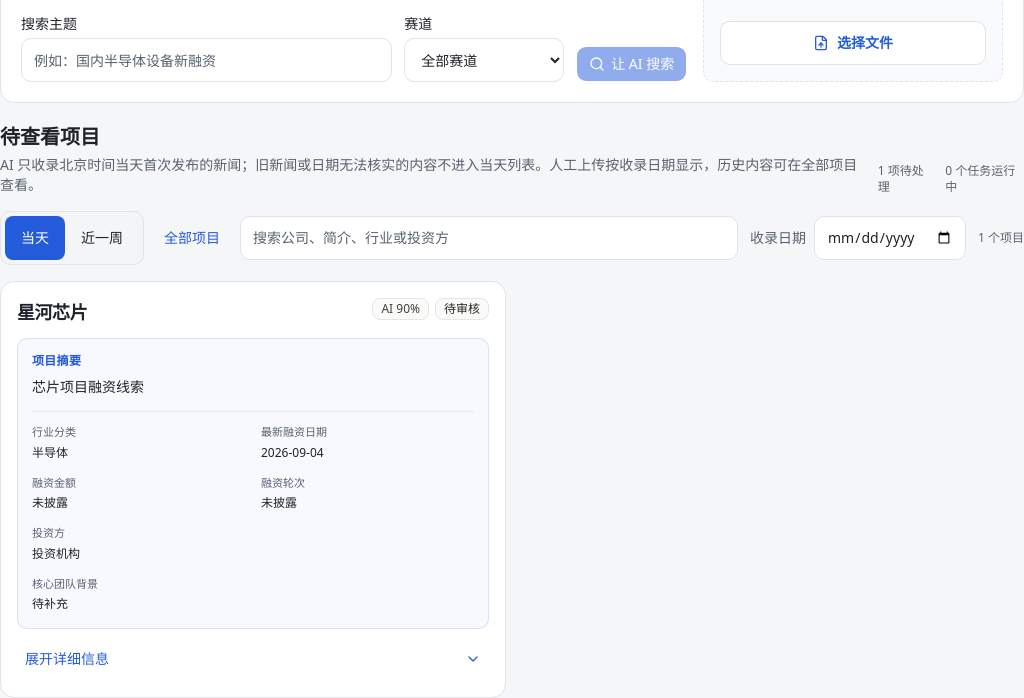
Test: searches intake assignees by real department metadata
The width and height of the screenshot is (1024, 698).
(page scrolled)
Click the button with aria-label "查看项目详情" at x=67, y=658, box [17,637,489,681]
(page scrolled)
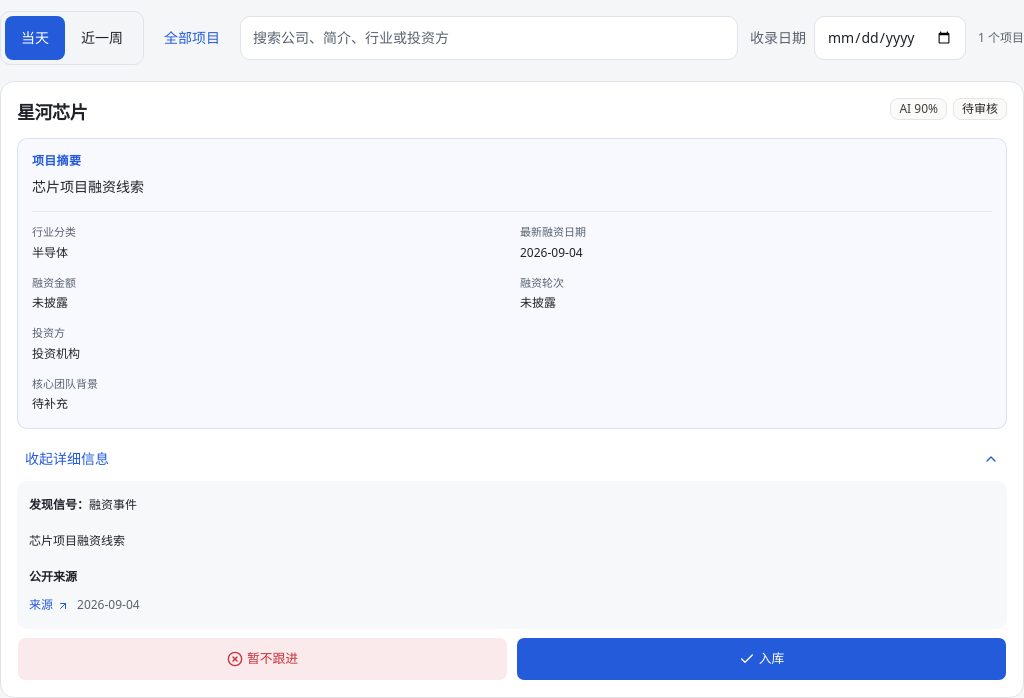
Click the button "入库" at x=762, y=659, box [516,637,1007,681]
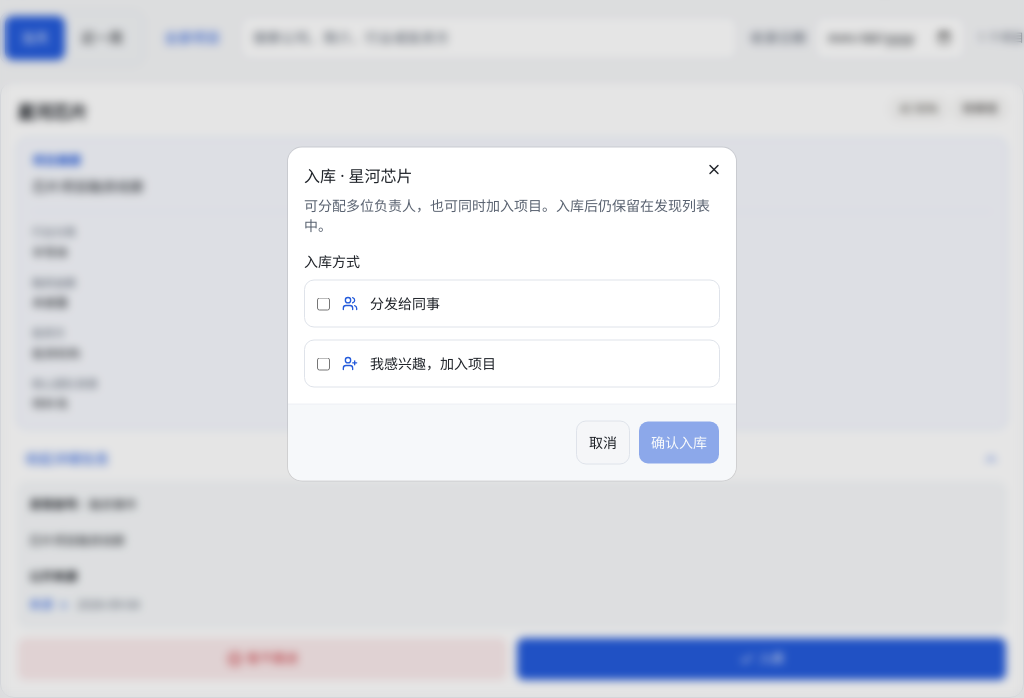
Click the checkbox labelled "分发给同事" at x=324, y=304, box [317,297,330,310]
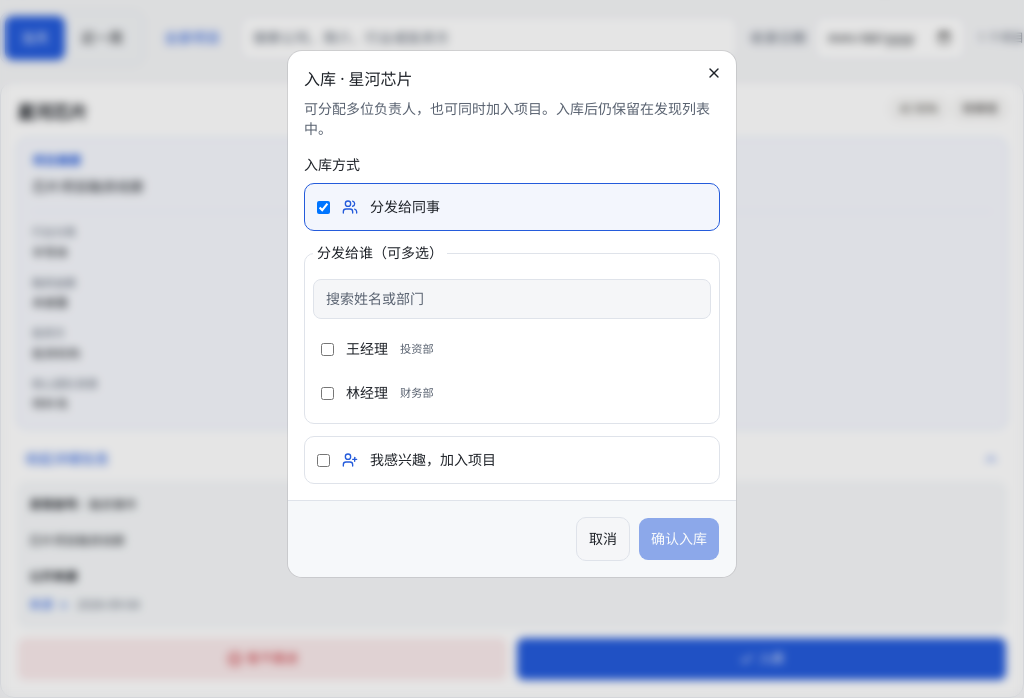
Type "财务" into the search field named "搜索入库负责人" at x=512, y=299, box [313,279,711,319]
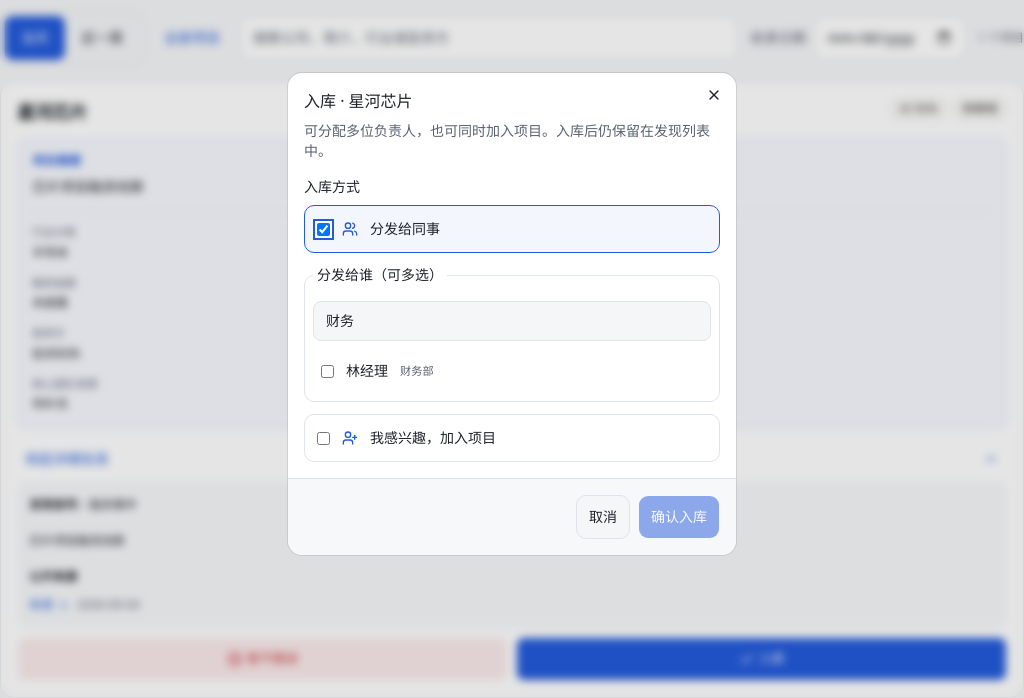
Expected: the checkbox labelled "林经理 财务部" is shown, [321,364,334,378]
Expected: the label "王经理" is gone
